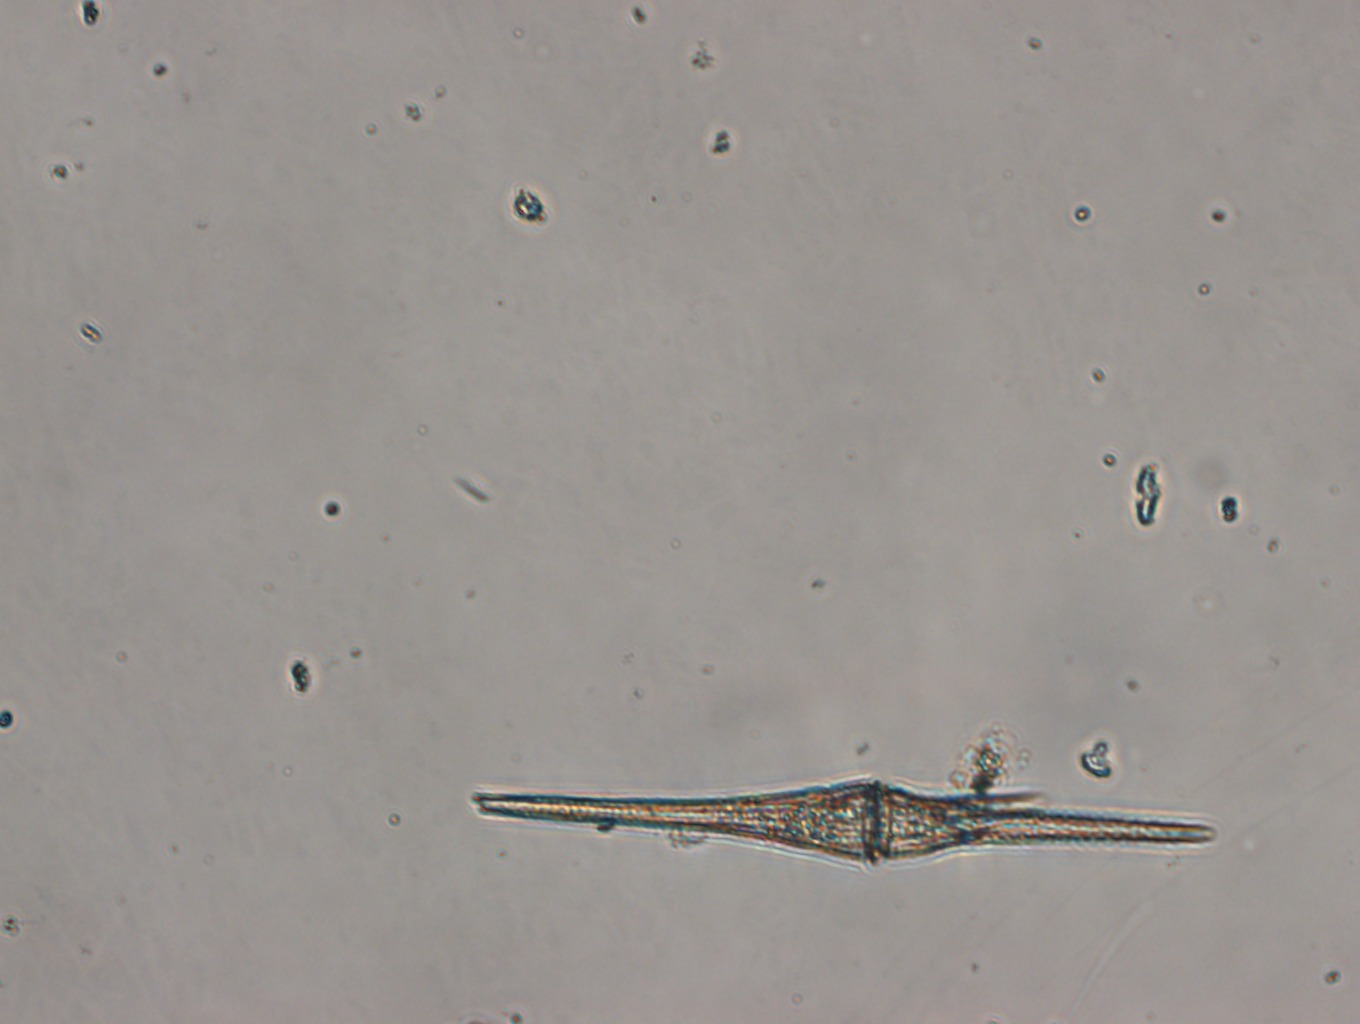ceratium furca: (472, 777, 1215, 862)
